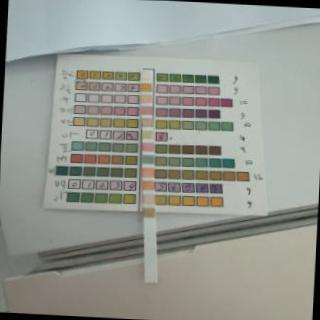mark: (142, 180, 154, 191), (141, 118, 154, 127), (143, 154, 154, 164), (143, 209, 155, 218), (142, 83, 154, 92), (142, 71, 154, 80), (142, 143, 155, 151), (144, 195, 154, 205), (142, 170, 154, 178), (141, 107, 153, 115), (140, 95, 152, 103), (142, 130, 152, 139)
